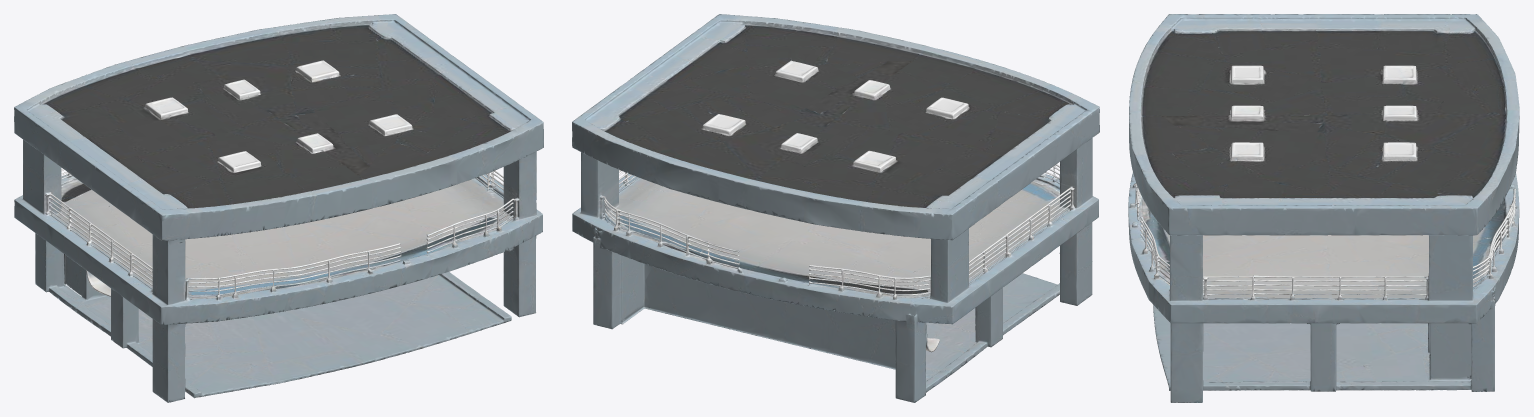
Rendered from advanced.glb.
3 views of the same model, side by side, from view 1: azimuth 30°, elevation 25°; view 2: azimuth 150°, elevation 25°; view 3: azimuth 270°, elevation 25° (orthographic). The views are drawn at different scales.
Size of the model in its own units: 1.9 by 0.9124 by 1.62.
Materials: 1 (1 with a texture image).
